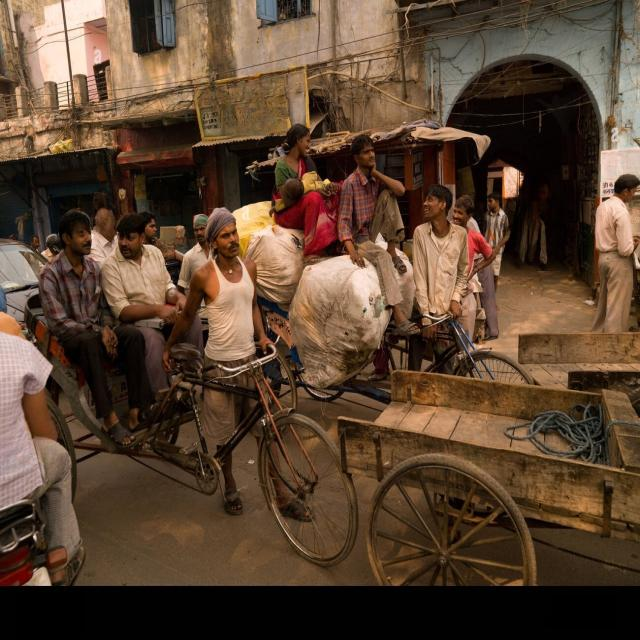bicycle: (25, 209, 358, 565)
